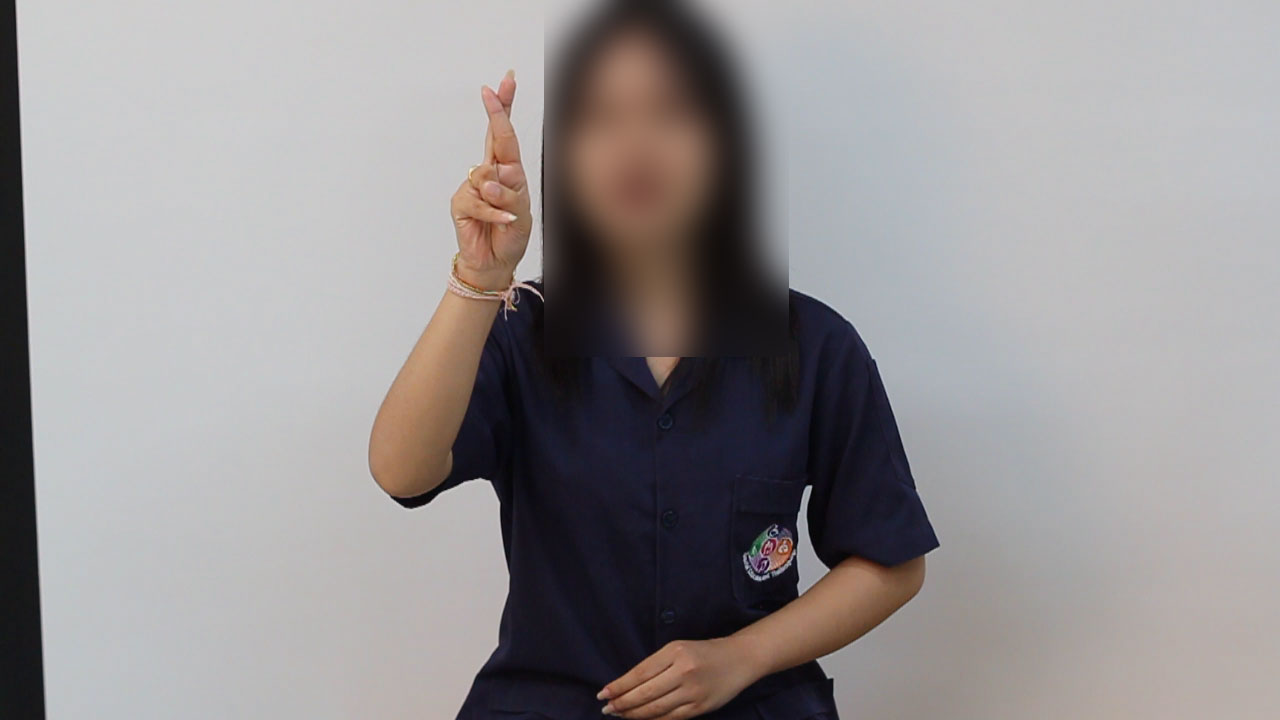rao: (423, 64, 549, 295)
